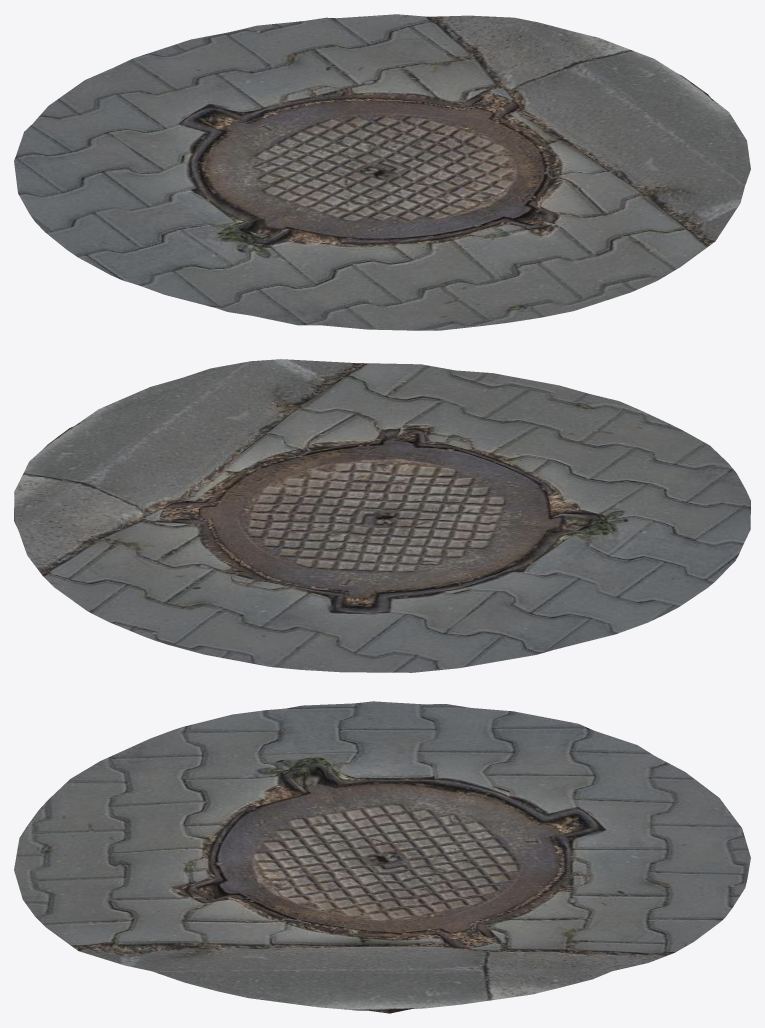
Rendered from photoscan_manhole_cover_2.glb.
3 views of the same model, one above another, from view 1: azimuth 30°, elevation 25°; view 2: azimuth 150°, elevation 25°; view 3: azimuth 270°, elevation 25° (orthographic).
Visible parts, largest first — view 1: photoscan_manhole_cover_2.001; view 2: photoscan_manhole_cover_2.001; view 3: photoscan_manhole_cover_2.001.
Boxes of the visible parts, x1,y1,x2,y2 form: photoscan_manhole_cover_2.001: (14,14,750,330); photoscan_manhole_cover_2.001: (14,359,750,672); photoscan_manhole_cover_2.001: (14,701,750,1013).
Bounding box in the file's own units: 1.68 × 0.0447 × 1.67.
1 material, 1 textured.
